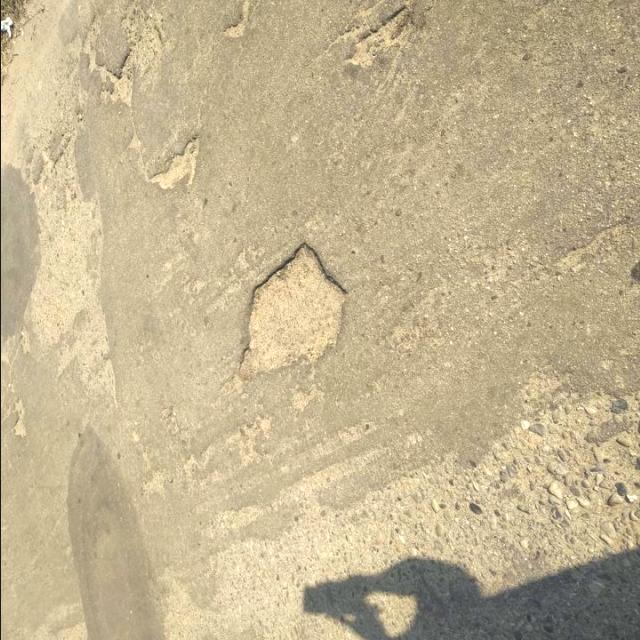pothole: (215, 211, 359, 416), (61, 0, 182, 118), (310, 0, 444, 96), (138, 130, 207, 216), (218, 0, 272, 47)
